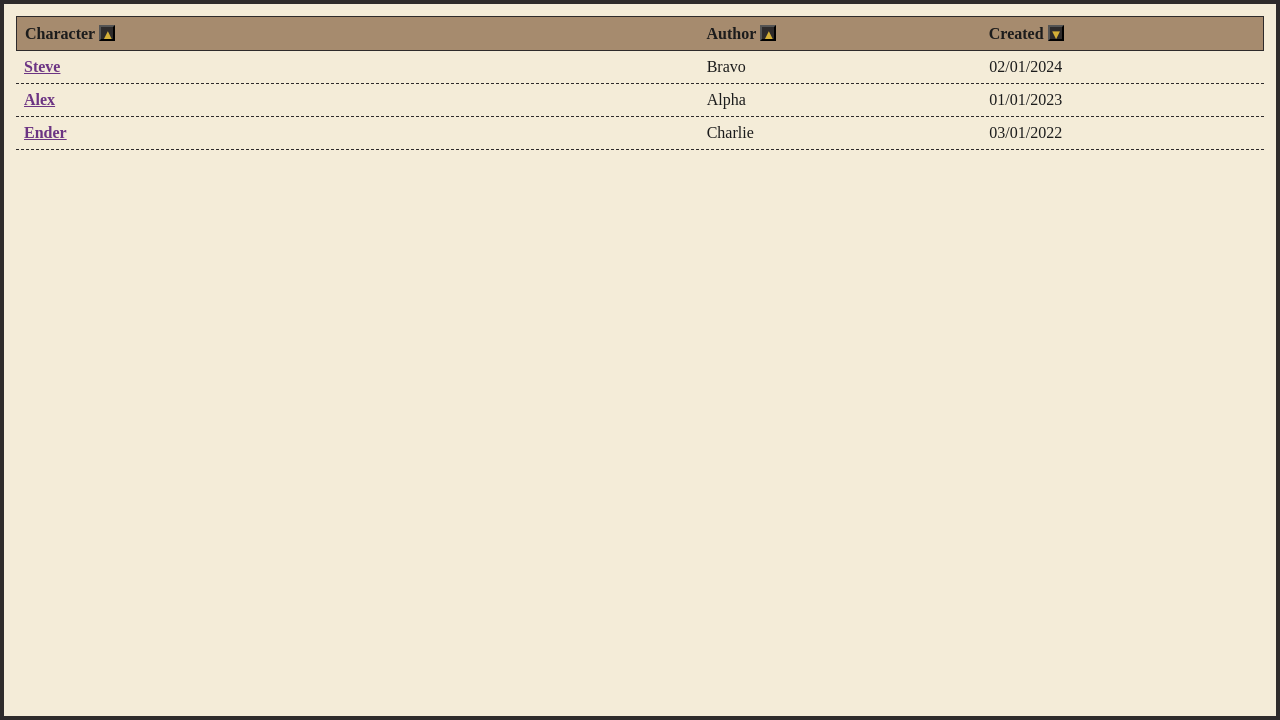
Scenario: Characters are sorted by ascending order
Check: the link "Steve" is shown, box [24,59,60,75]
Click the button "▲" next to "Character": (107, 33) [99,25,115,41]
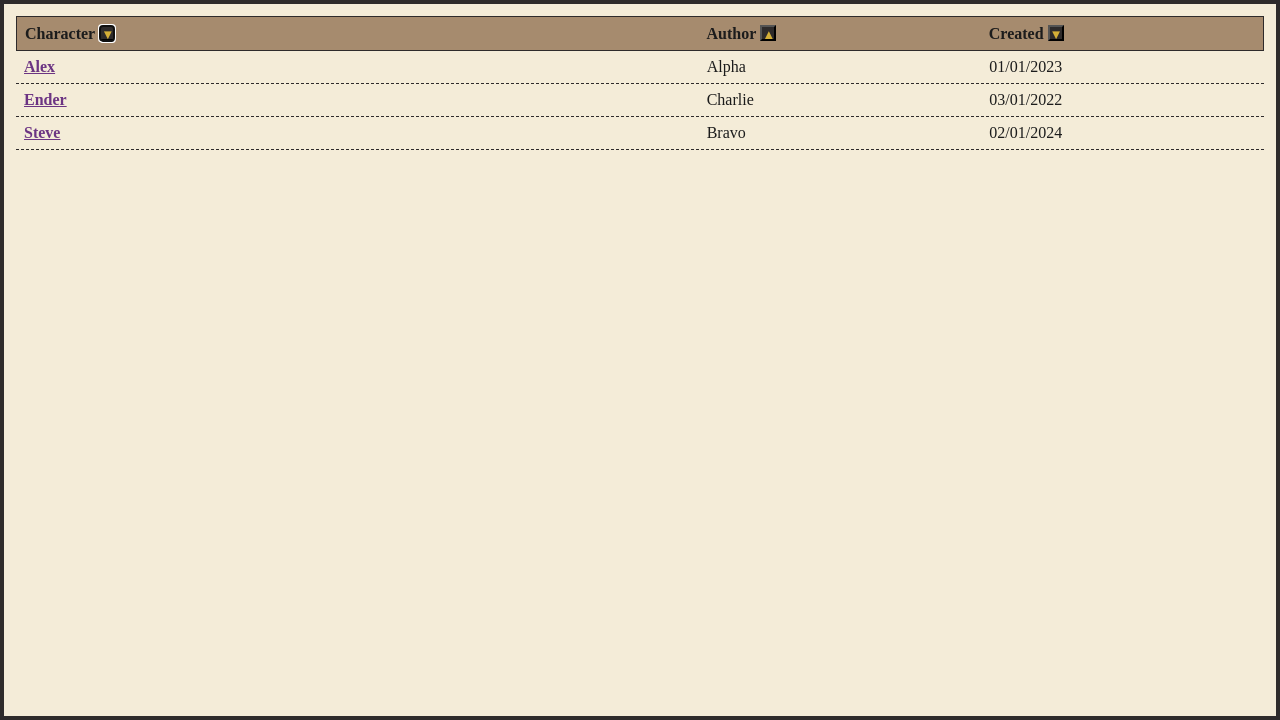
Check: the links read "Alex", "Ender", "Steve", in this order, box [24,59,55,75]; [24,92,67,108]; [24,125,60,141]
